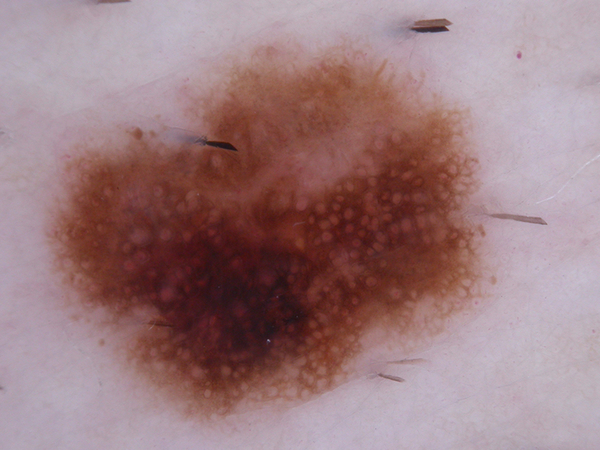Detected Lesion: (48, 39, 492, 429)
